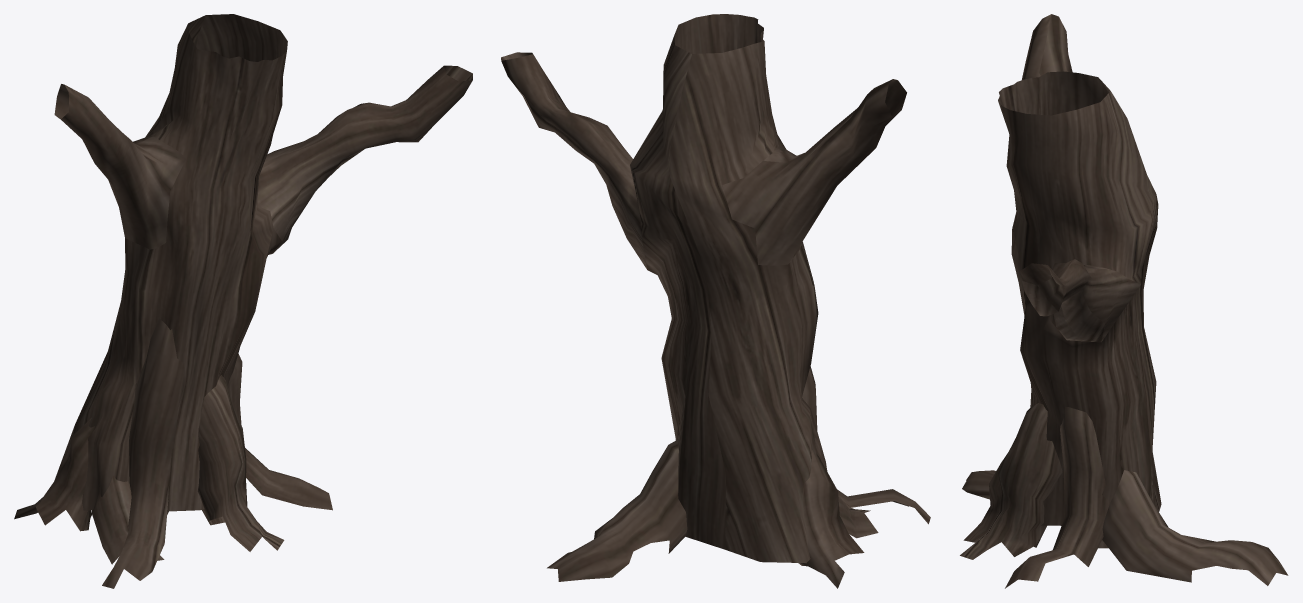
3 renders of one model, left to right at view 1: azimuth 30°, elevation 25°; view 2: azimuth 150°, elevation 25°; view 3: azimuth 270°, elevation 25°, orthographic. The views are drawn at different scales.
Visible parts, largest first — view 1: shugan; view 2: shugan; view 3: shugan.
Part boxes in pixels (left/top/right/bottom): shugan: left=14, top=14, right=472, bottom=588; shugan: left=501, top=14, right=930, bottom=588; shugan: left=960, top=14, right=1288, bottom=588.
Size of the model in its own units: 130 by 147 by 92.8.
